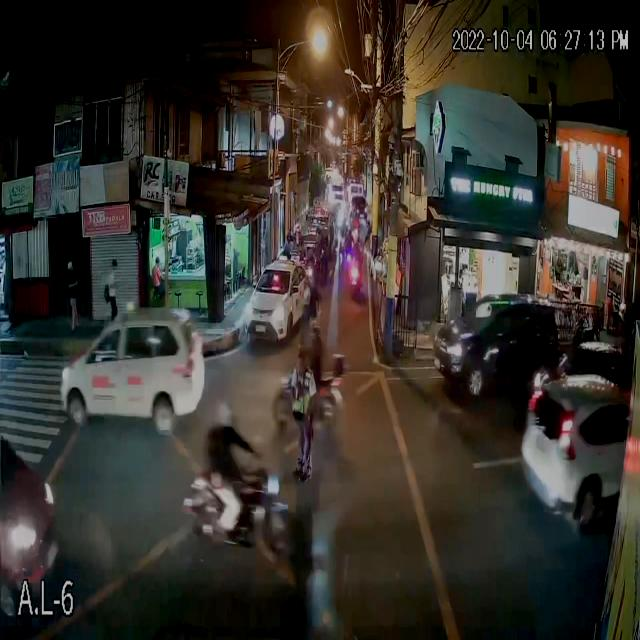Full-Faced: (212, 396, 233, 428)
